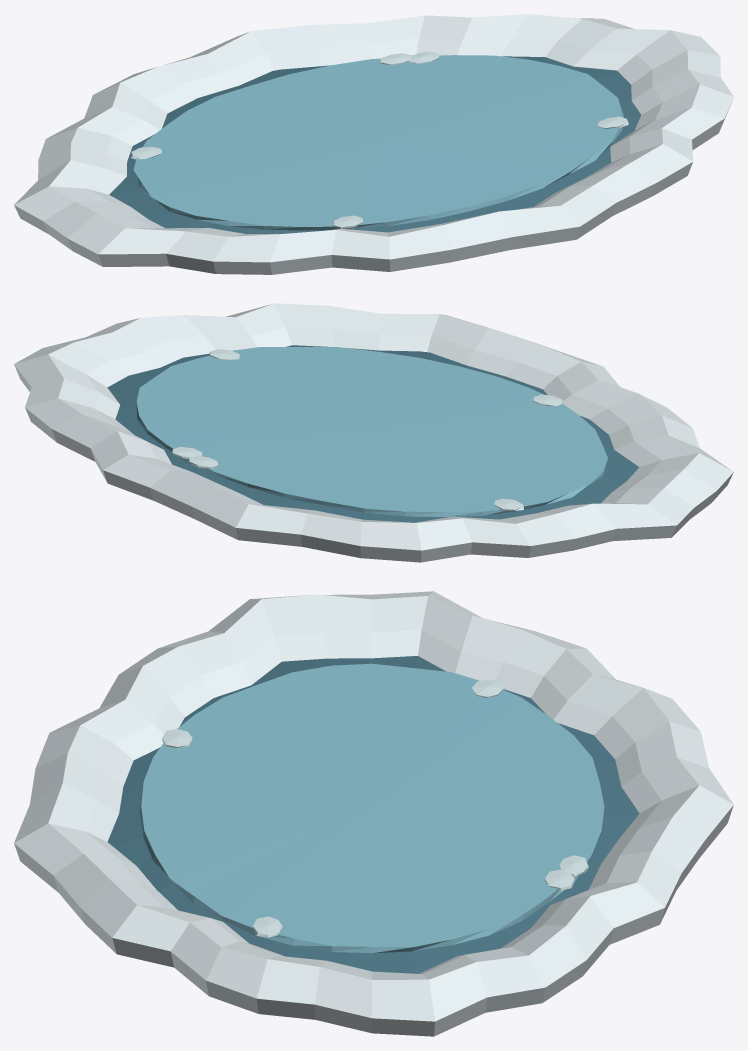
Rendered from ICE_02_PondMedium.glb.
3 renders of one model, top to bottom at view 1: azimuth 30°, elevation 25°; view 2: azimuth 150°, elevation 25°; view 3: azimuth 270°, elevation 25°, orthographic. The views are drawn at different scales.
Visible parts, largest first — view 1: ICE_02_PondMedium; view 2: ICE_02_PondMedium; view 3: ICE_02_PondMedium.
Boxes of the visible parts, x1,y1,x2,y2 form: ICE_02_PondMedium: (14, 14, 733, 274); ICE_02_PondMedium: (14, 303, 733, 562); ICE_02_PondMedium: (14, 591, 733, 1036).
Bounding box in the file's own units: 9.33 × 0.545 × 6.6.
